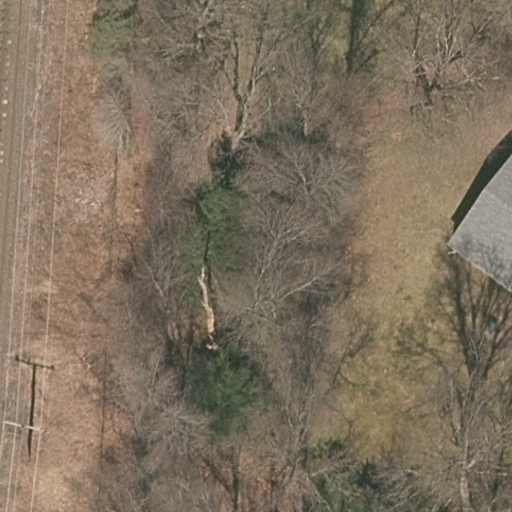DT: (4, 415, 47, 442)
